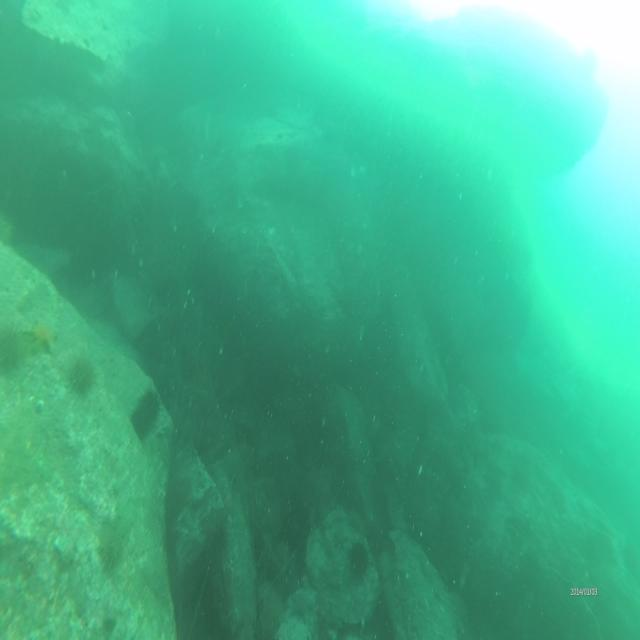echinus: (65, 346, 97, 397), (97, 515, 123, 572), (345, 531, 372, 584), (0, 316, 18, 371)
holothurian: (129, 387, 162, 440)
starfish: (22, 310, 58, 356)
